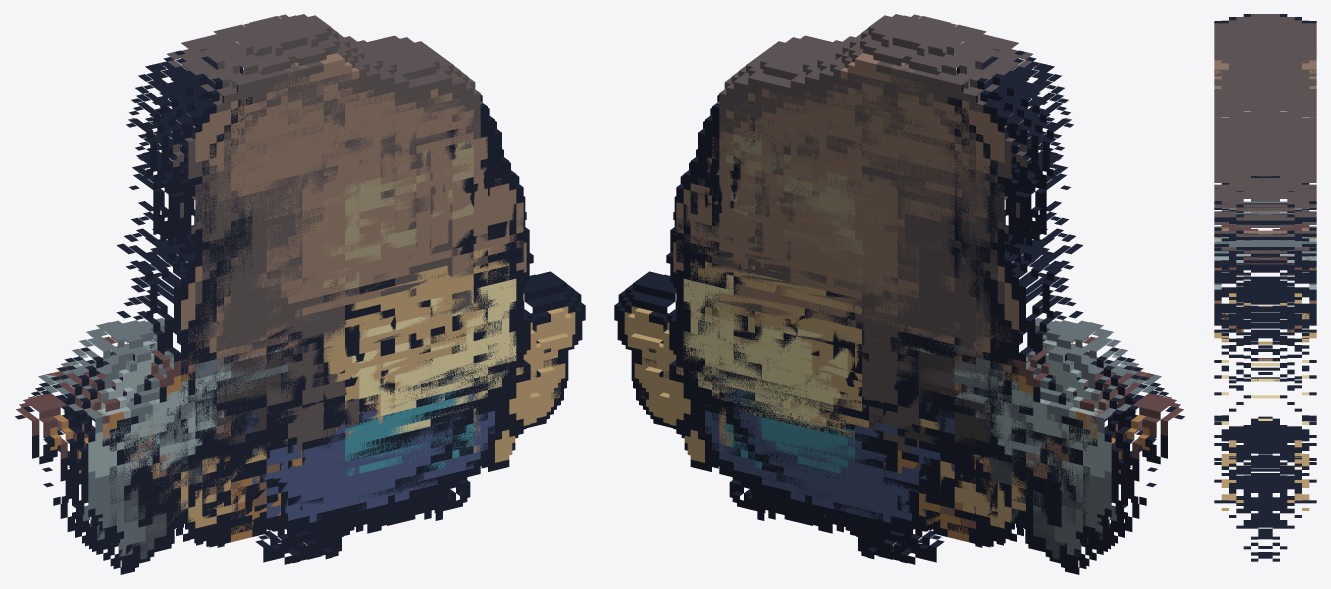
File: picareta_correndo.glb
The picture shows the model from 3 angles, left to right: view 1: azimuth 30°, elevation 25°; view 2: azimuth 150°, elevation 25°; view 3: azimuth 270°, elevation 25°; orthographic projection. The views are drawn at different scales.
Visible parts, largest first — view 1: q0, q1, q2, q4, q3, q5; view 2: q0, q1, q2, q3, q4, q5; view 3: q1, q0, q2, q4, q3, q5.
Boxes of the visible parts, x1=… form: q0: x1=42, y1=37, x2=568, y2=556; q1: x1=15, y1=14, x2=585, y2=551; q2: x1=43, y1=80, x2=566, y2=574; q4: x1=104, y1=23, x2=487, y2=529; q3: x1=86, y1=50, x2=491, y2=564; q5: x1=69, y1=94, x2=518, y2=563; q0: x1=631, y1=37, x2=1157, y2=556; q1: x1=614, y1=14, x2=1184, y2=551; q2: x1=633, y1=80, x2=1156, y2=574; q3: x1=705, y1=47, x2=1113, y2=564; q4: x1=712, y1=23, x2=1095, y2=529; q5: x1=681, y1=94, x2=1130, y2=566; q1: x1=1214, y1=35, x2=1316, y2=519; q0: x1=1214, y1=53, x2=1316, y2=527; q2: x1=1214, y1=67, x2=1316, y2=519; q4: x1=1214, y1=14, x2=1316, y2=537; q3: x1=1214, y1=53, x2=1316, y2=558; q5: x1=1214, y1=98, x2=1316, y2=561.
Bounding box in the file's own units: 77 × 71 × 14.
1 material, 1 textured.
